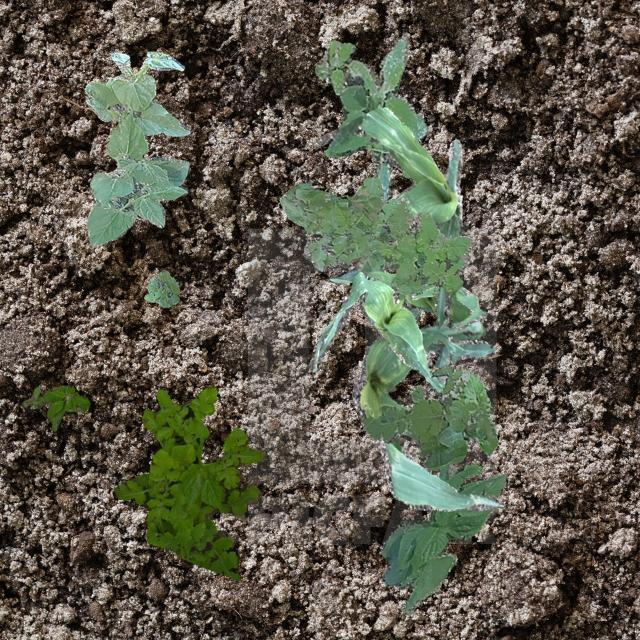crop: (314, 106, 466, 328), (350, 328, 502, 510), (84, 51, 188, 246), (379, 462, 505, 614), (307, 270, 443, 392), (328, 266, 484, 340), (410, 282, 486, 330)
weed: (112, 386, 264, 580), (278, 176, 472, 294), (314, 35, 426, 202), (362, 366, 497, 470), (20, 386, 90, 430), (144, 268, 178, 306), (391, 284, 418, 318)
